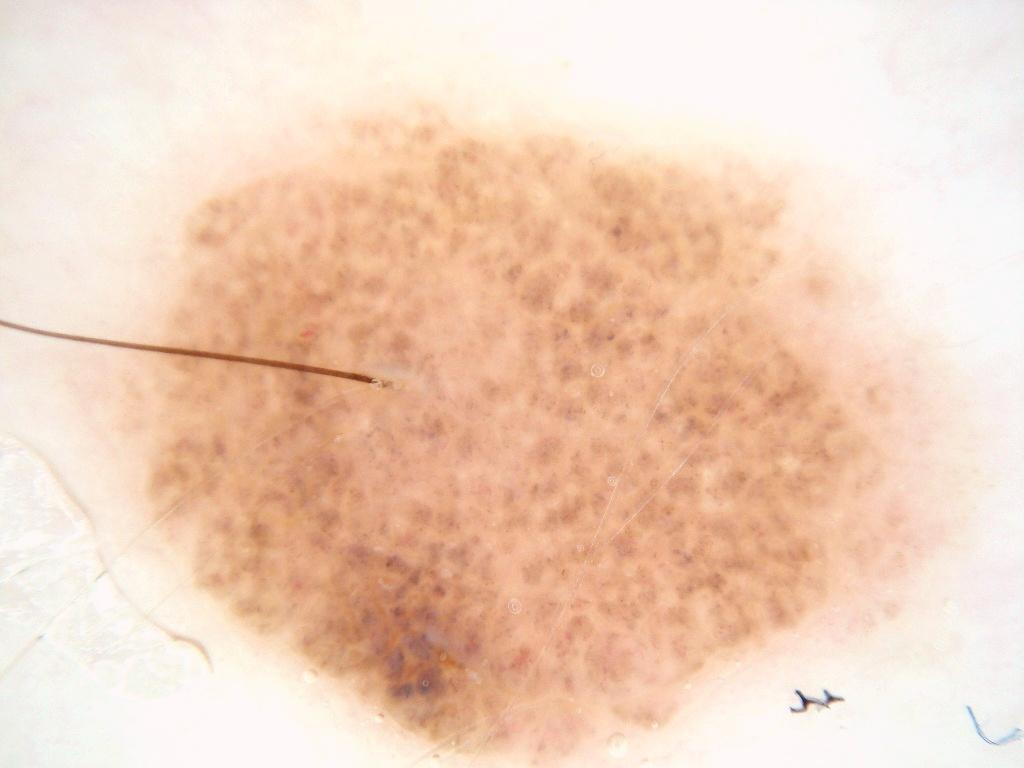Detected Lesion: (118, 112, 987, 768)
